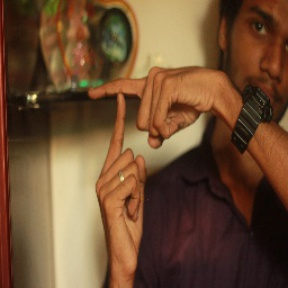T: (70, 67, 161, 184)
